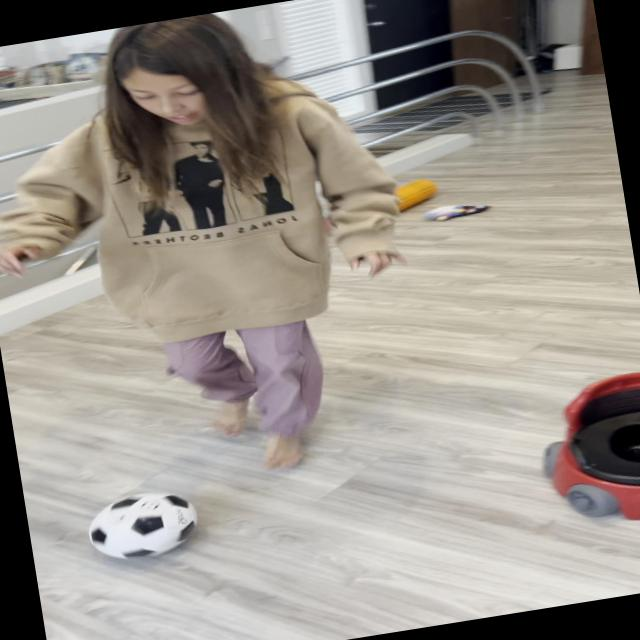Soccer Ball: (82, 485, 202, 566)
